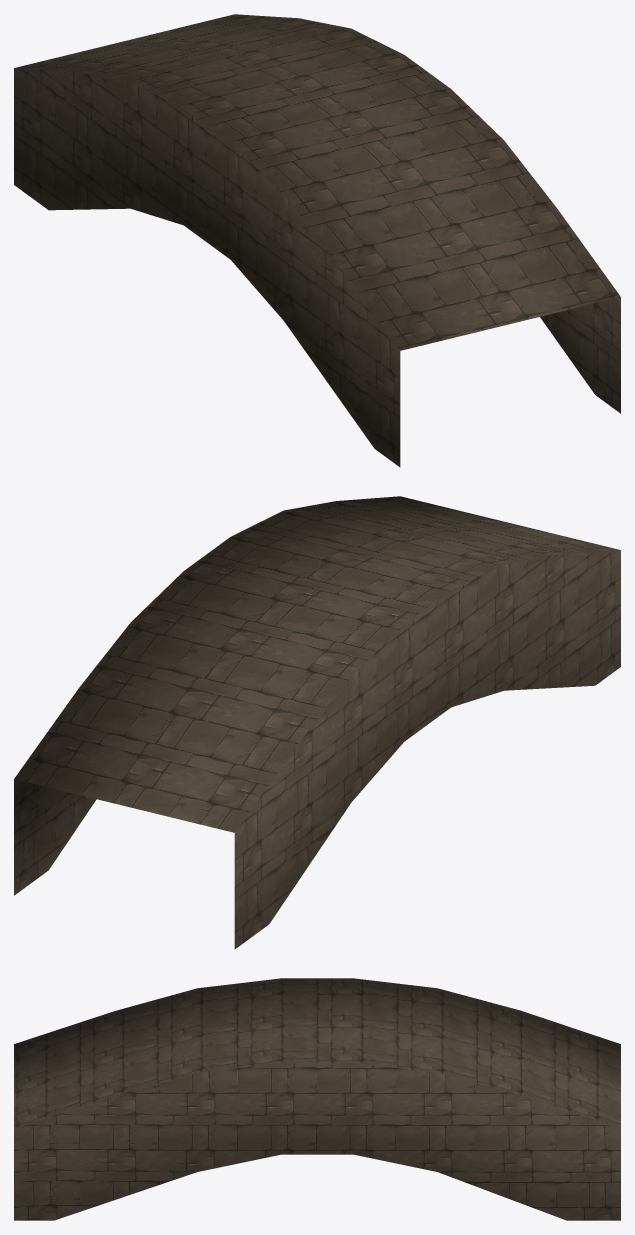
Rendered from sn_longmai_baseframe_005.FBX.
3 renders of one model, top to bottom at view 1: azimuth 30°, elevation 25°; view 2: azimuth 150°, elevation 25°; view 3: azimuth 270°, elevation 25°, orthographic. The views are drawn at different scales.
Parts seen in each view (by area): view 1: sn_longmai_baseframe_005; view 2: sn_longmai_baseframe_005; view 3: sn_longmai_baseframe_005.
Boxes of the visible parts, box(x1,y1,x2,y2) form: sn_longmai_baseframe_005: box(14, 14, 620, 467); sn_longmai_baseframe_005: box(14, 496, 620, 949); sn_longmai_baseframe_005: box(14, 978, 620, 1220).
Bounding box in the file's own units: 832 × 722 × 2522.
